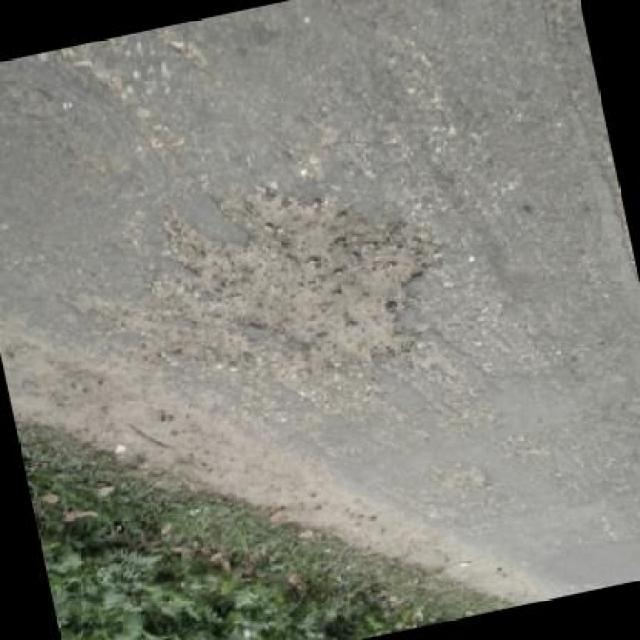pothole1: (192, 168, 451, 398)
